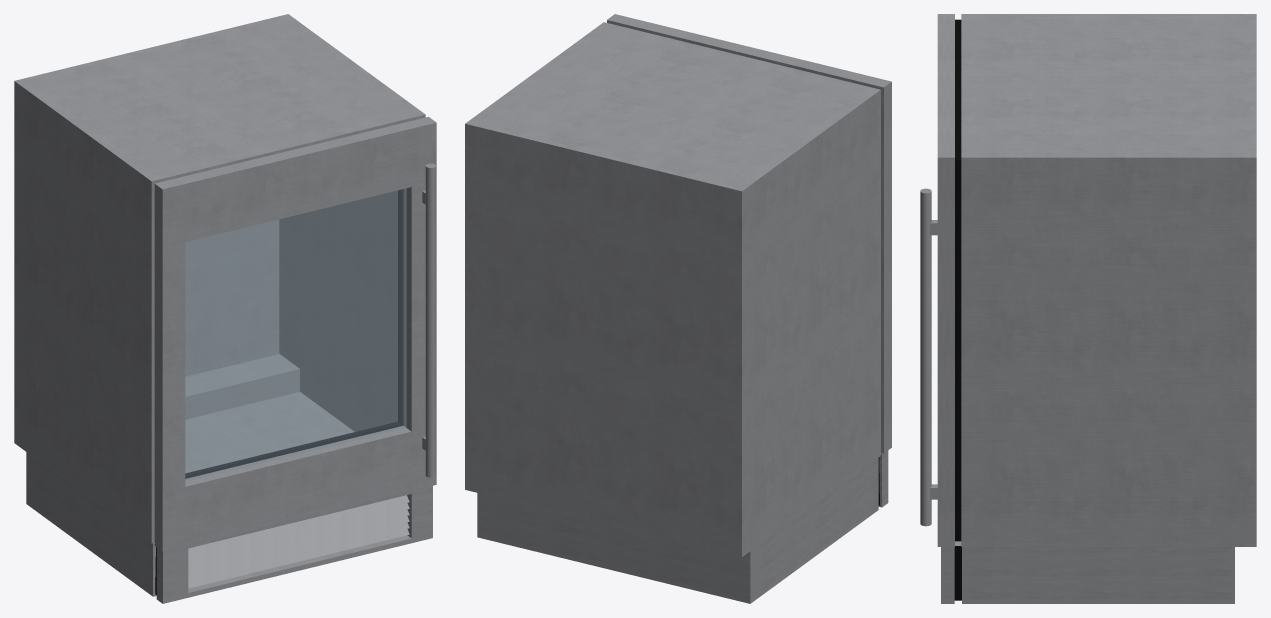
The model's file is wineCoolerMeters.glb.
3 renders of one model, left to right at view 1: azimuth 30°, elevation 25°; view 2: azimuth 150°, elevation 25°; view 3: azimuth 270°, elevation 25°, orthographic. The views are drawn at different scales.
Parts seen in each view (by area): view 1: Miele_KWT_6322_UG_088; view 2: Miele_KWT_6322_UG_088; view 3: Miele_KWT_6322_UG_088.
Boxes of the visible parts, left/top/right/bottom form: Miele_KWT_6322_UG_088: left=14, top=14, right=436, bottom=603; Miele_KWT_6322_UG_088: left=465, top=14, right=891, bottom=603; Miele_KWT_6322_UG_088: left=920, top=14, right=1256, bottom=603.
Bounding box in the file's own units: 5.95 × 8.64 × 5.88.
3 materials, 1 textured.
